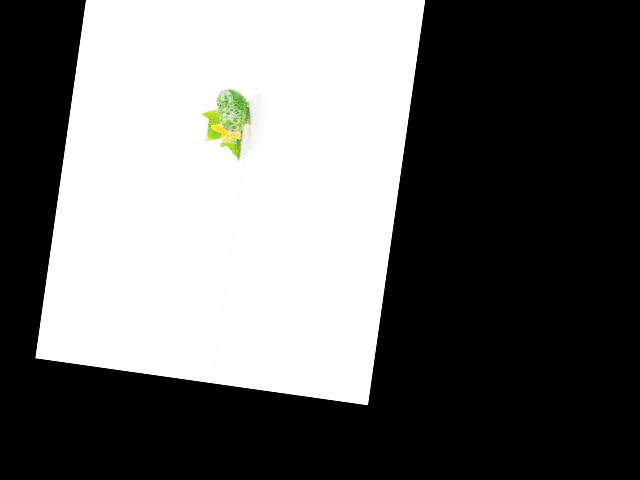cucumber: (213, 87, 251, 133)
